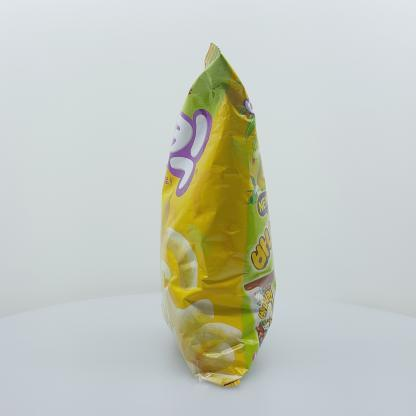Plastic Packaging: (151, 35, 297, 402)
